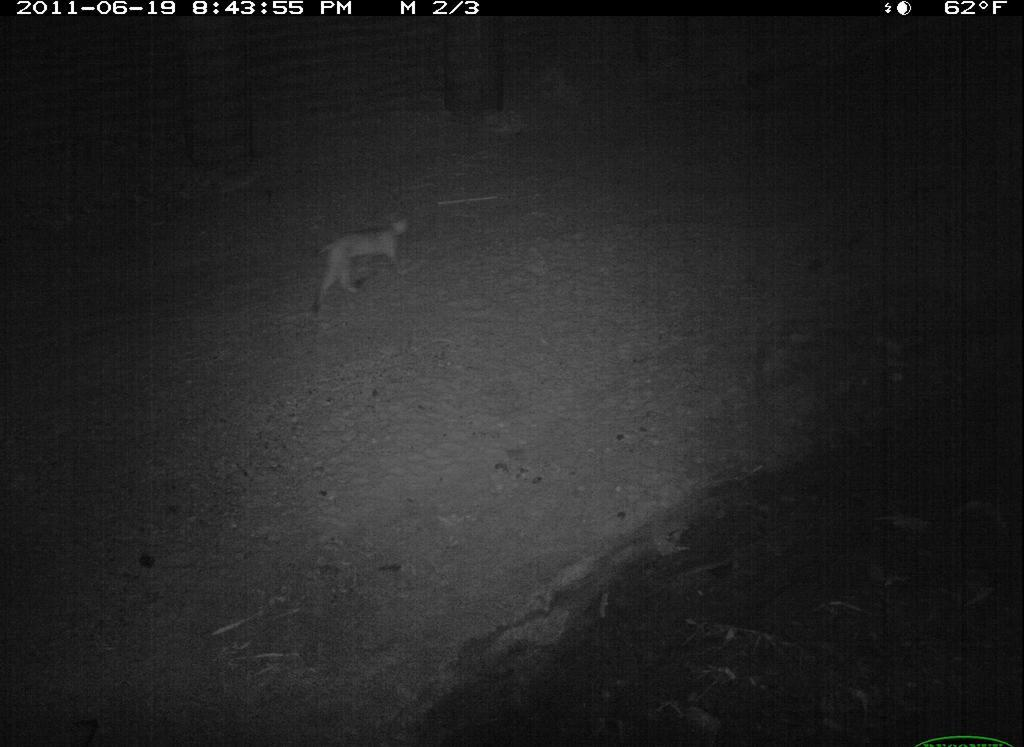bobcat: (300, 204, 418, 327)
